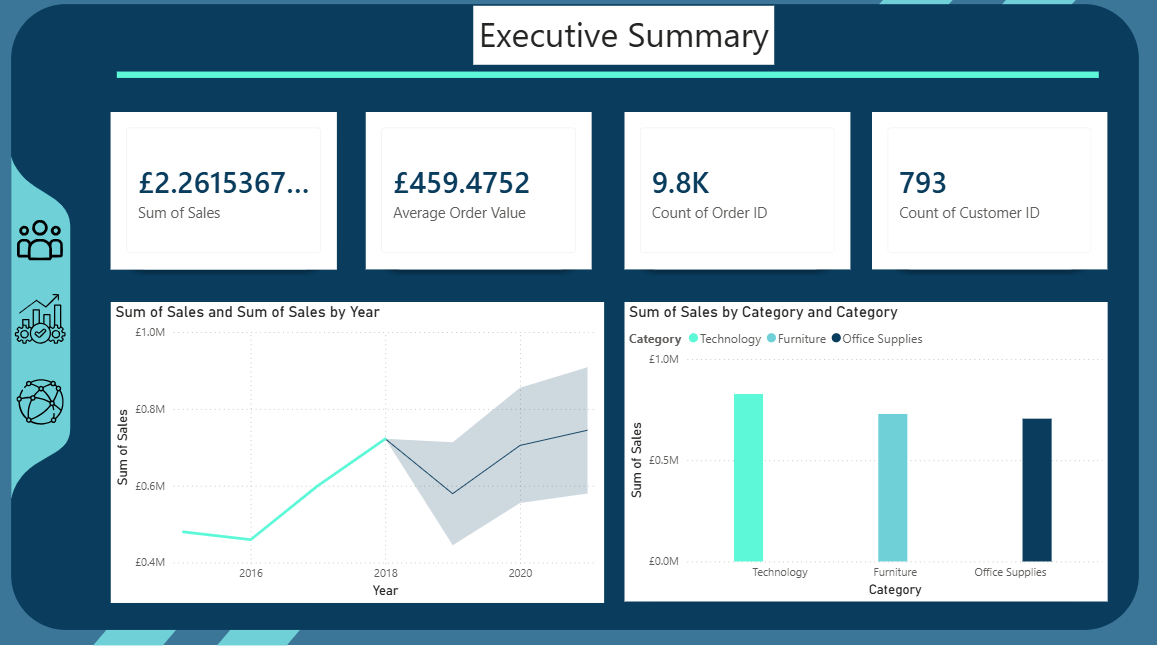

Layout of this report page (visuals, bound fields, positions):
{"tool":"powerbi","page":{"name":"Executive Summary","canvas":[1280,720],"ordinal":0},"visuals":[{"type":"cardVisual","fields":{"Data":["Sum(fact.Sales)"]},"box":[130.4,131.7,248.4,172.9],"z":0},{"type":"cardVisual","fields":{"Data":["CountNonNull(fact.Order ID)"]},"box":[694.3,131.7,248.4,172.9],"z":1000},{"type":"lineChart","fields":{"Y":["Sum(fact.Sales)"],"Category":["order.Year"]},"box":[130,340,541.4,330],"z":2000},{"type":"cardVisual","fields":{"Data":["CountNonNull(Customer.Customer ID)"]},"box":[965.7,131.4,258.6,172.9],"z":3000},{"type":"clusteredColumnChart","fields":{"Y":["Sum(fact.Sales)"],"Category":["Product.Category"],"Series":["Product.Category"]},"box":[694.3,340,530,328.6],"z":4000},{"type":"cardVisual","fields":{"Data":["Sum(fact.Sales)"]},"box":[130.4,131.7,248.4,172.9],"z":5000},{"type":"cardVisual","fields":{"Data":["mesuers.Average Order Value"]},"box":[410.3,131.7,248.4,172.9],"z":6000},{"type":"textbox","box":[528.3,15.1,330.7,64.5],"z":7000},{"type":"image","box":[27.4,229.2,50.8,86.4],"z":8000},{"type":"image","box":[23.3,322.5,59,72.7],"z":9000},{"type":"image","box":[2.7,424,100.2,52.1],"z":10000}]}

Visuals, with their boxes in screenshot pixels (x1, y1, x2, y2), scaled from the page's 1280x720 canvas onto the 1157x648 screenshot:
cardVisual - Sum(fact.Sales): box=[118, 119, 342, 274]
cardVisual - CountNonNull(fact.Order ID): box=[628, 119, 852, 274]
lineChart - Sum(fact.Sales) x order.Year: box=[118, 306, 607, 603]
cardVisual - CountNonNull(Customer.Customer ID): box=[873, 118, 1107, 274]
clusteredColumnChart - Sum(fact.Sales) x Product.Category: box=[628, 306, 1107, 602]
cardVisual - Sum(fact.Sales): box=[118, 119, 342, 274]
cardVisual - mesuers.Average Order Value: box=[371, 119, 595, 274]
textbox: box=[478, 14, 776, 72]
image: box=[25, 206, 71, 284]
image: box=[21, 290, 74, 356]
image: box=[2, 382, 93, 428]
